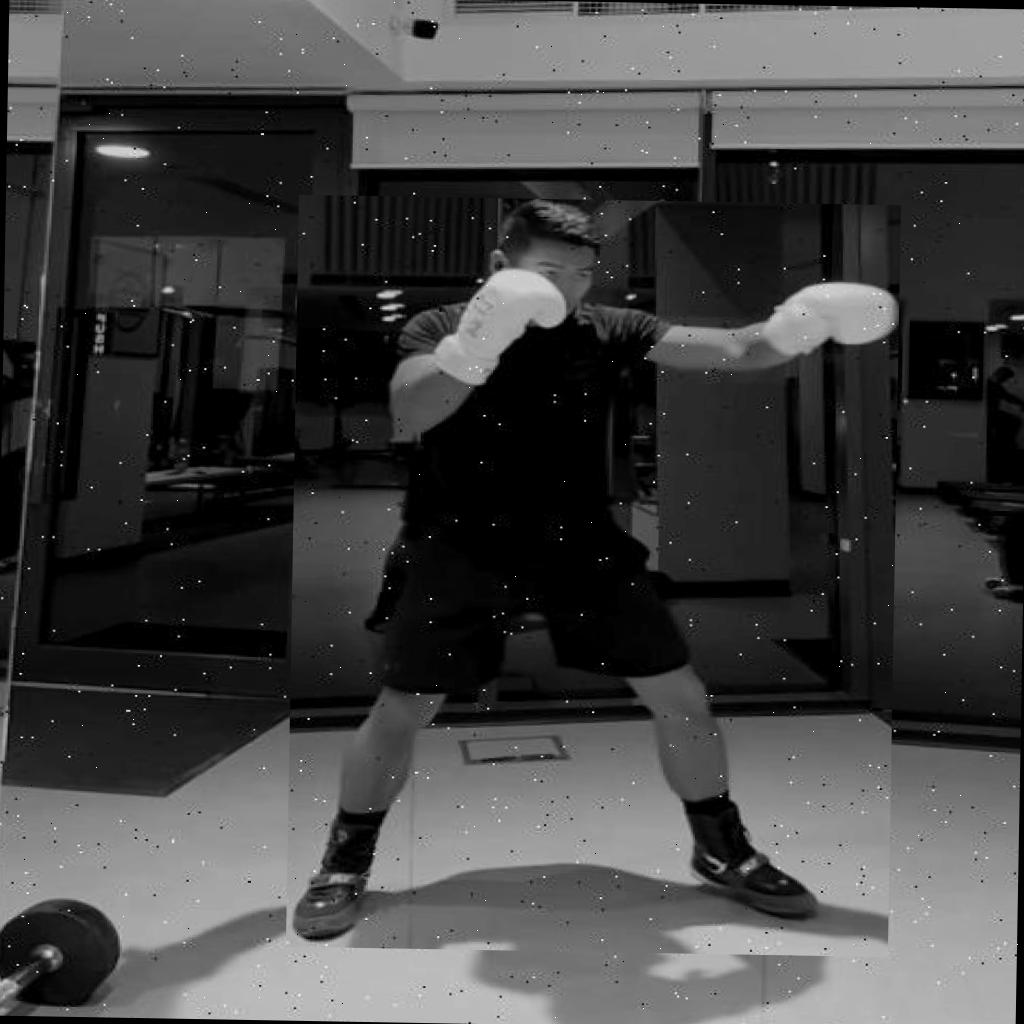jab: (286, 194, 900, 957)
